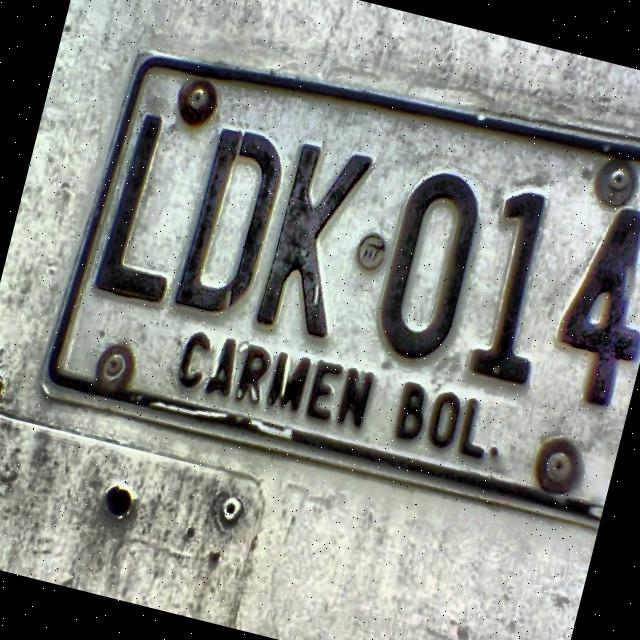plate: (47, 57, 640, 515)
